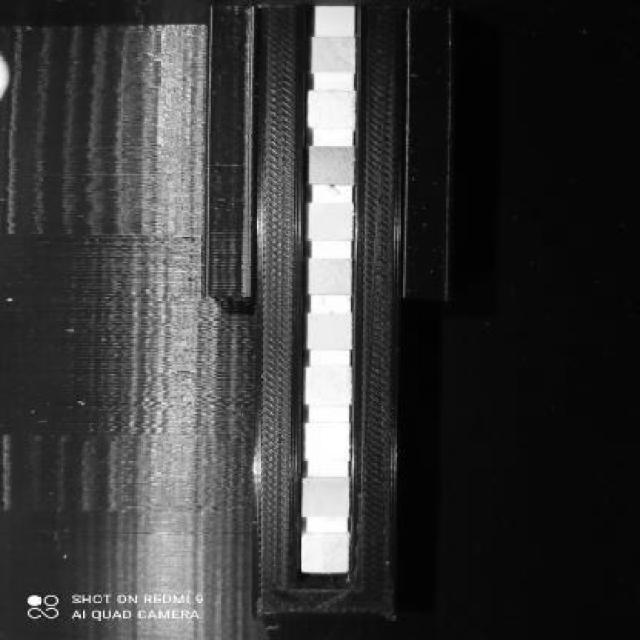Bilirubin: (309, 91, 355, 128)
Blood: (310, 260, 350, 294)
Glucose: (313, 37, 354, 72)
Ketone: (310, 148, 354, 184)
Leukocytes: (302, 536, 348, 572)
Nitrite: (303, 480, 349, 515)
Protein: (306, 368, 351, 402)
SpGravity: (309, 204, 352, 239)
Urobilinogen: (306, 424, 349, 459)
background: (0, 0, 640, 640)
pH: (308, 314, 351, 349)
strip: (304, 6, 354, 573)
